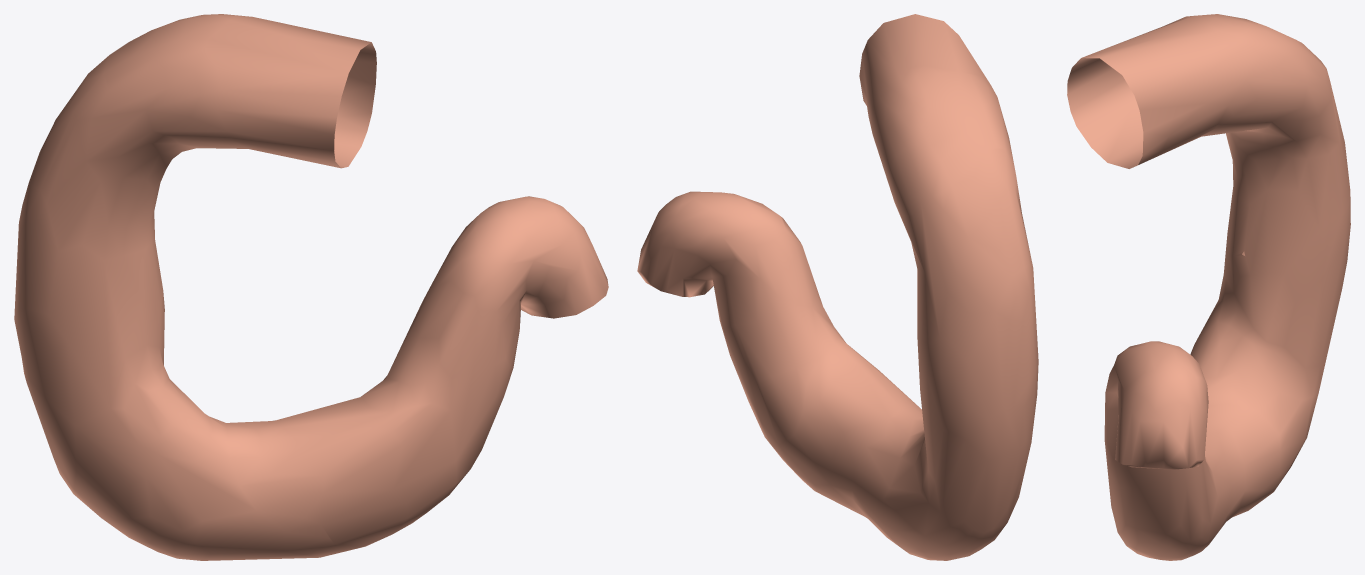
The model's file is visceras-duodenum.glb.
3 renders of one model, left to right at view 1: azimuth 30°, elevation 25°; view 2: azimuth 150°, elevation 25°; view 3: azimuth 270°, elevation 25°, orthographic. The views are drawn at different scales.
Parts seen in each view (by area): view 1: Duodenum; view 2: Duodenum; view 3: Duodenum.
Part boxes in pixels (x1,y1,x2,y2): Duodenum: (14,14,608,560); Duodenum: (637,14,1038,560); Duodenum: (1067,14,1350,560).
Bounding box in the file's own units: 0.098 × 0.0983 × 0.0516.
